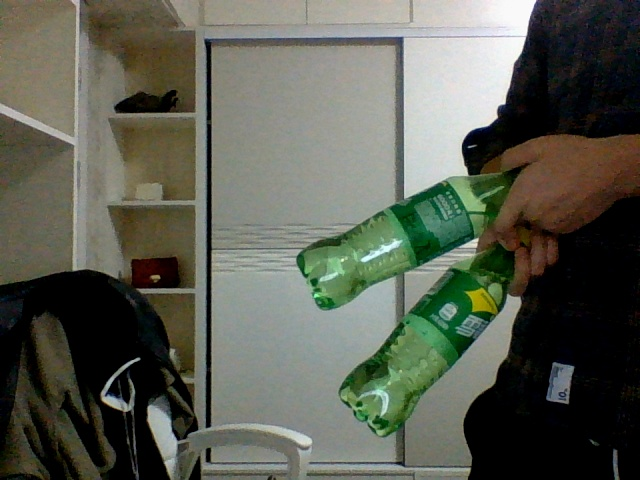Sprite: (338, 244, 514, 438), (296, 173, 514, 311)
